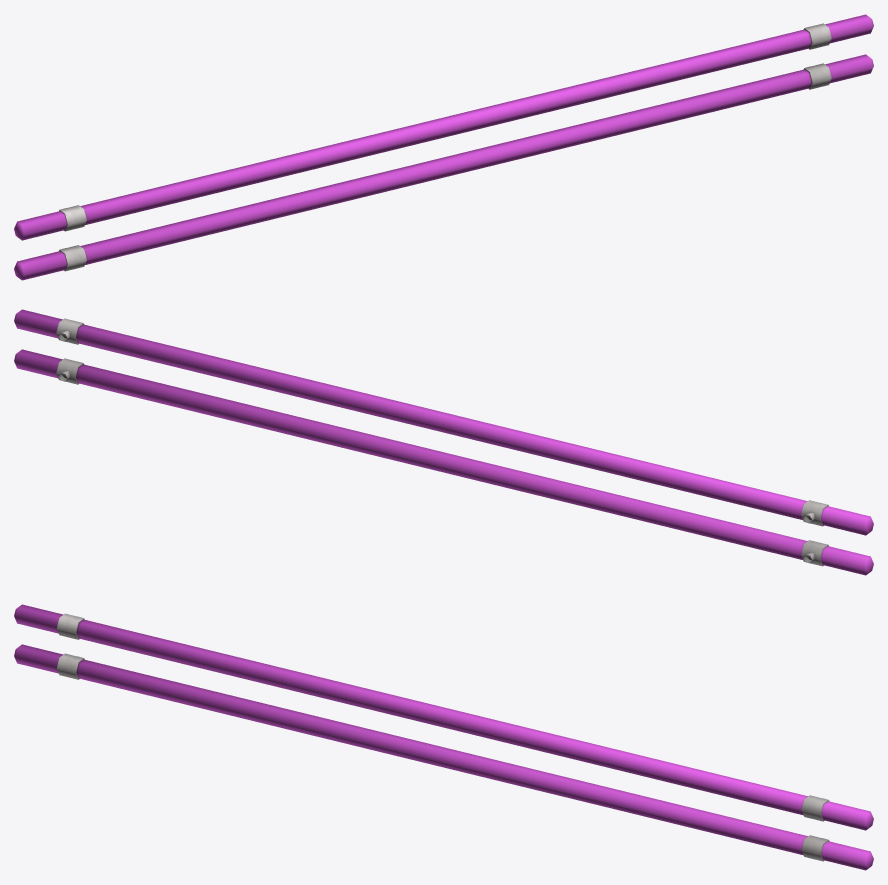
File: video_store_neon_lights.obj
3 views of the same model, one above another, from view 1: azimuth 30°, elevation 25°; view 2: azimuth 150°, elevation 25°; view 3: azimuth 330°, elevation 25° (orthographic).
Parts seen in each view (by area): view 1: Mesh6_Group11_Group10_Group1_Model; view 2: Mesh6_Group11_Group10_Group1_Model; view 3: Mesh6_Group11_Group10_Group1_Model.
Part boxes in pixels (left/top/right/bottom): Mesh6_Group11_Group10_Group1_Model: left=14, top=14, right=873, bottom=280; Mesh6_Group11_Group10_Group1_Model: left=14, top=309, right=873, bottom=575; Mesh6_Group11_Group10_Group1_Model: left=14, top=604, right=873, bottom=870.
Bounding box in the file's own units: 2 × 0.129 × 0.0556.
1 material, 1 textured.
